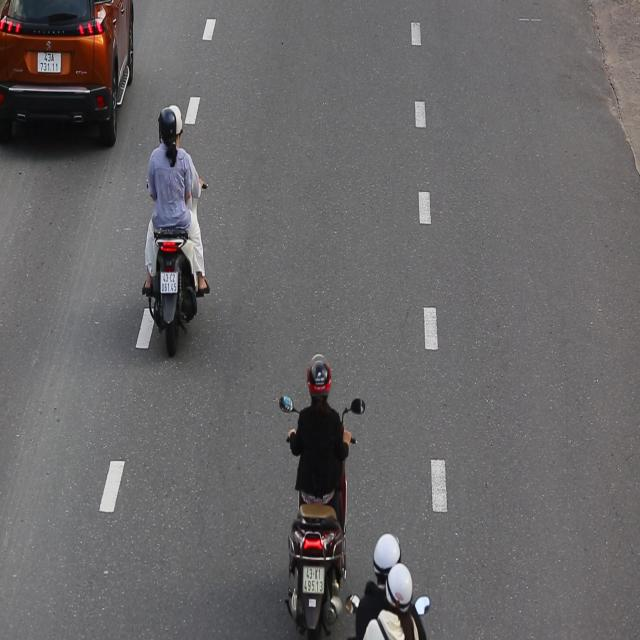motorbike: (276, 346, 362, 640), (144, 100, 213, 362)
